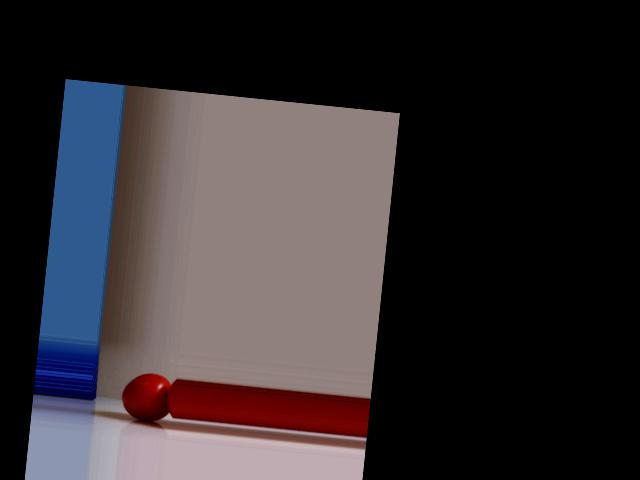tomato: (119, 371, 171, 423)
